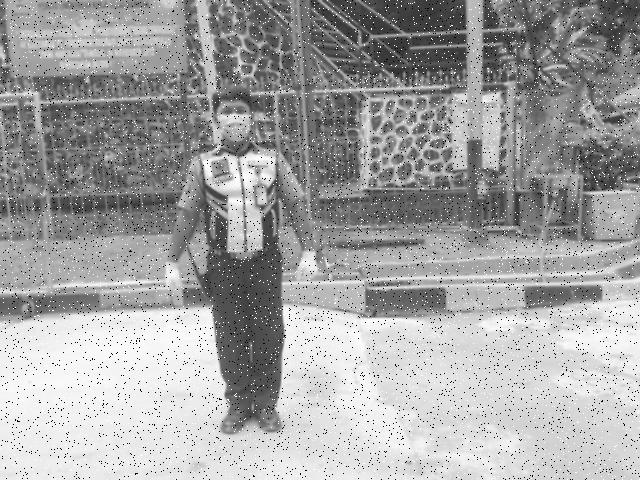gloves: (293, 249, 322, 282), (162, 260, 185, 296)
mask: (220, 116, 251, 141)
safety-shoes: (218, 407, 253, 437), (253, 405, 284, 434)
